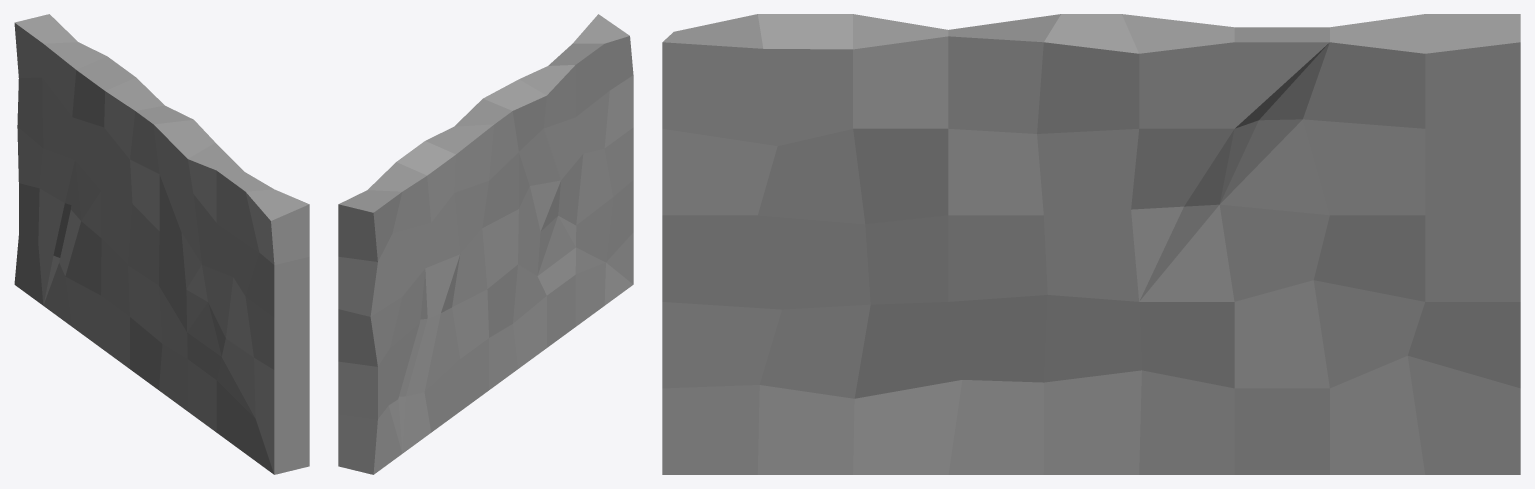
Rendered from Fixed Mesh 16.fbx.
3 renders of one model, left to right at view 1: azimuth 30°, elevation 25°; view 2: azimuth 150°, elevation 25°; view 3: azimuth 270°, elevation 25°, orthographic. The views are drawn at different scales.
Parts seen in each view (by area): view 1: Cube.107; view 2: Cube.107; view 3: Cube.107.
Boxes of the visible parts, box(x1,y1,x2,y2) form: Cube.107: box(14, 14, 309, 474); Cube.107: box(338, 14, 633, 474); Cube.107: box(662, 14, 1520, 474).
Bounding box in the file's own units: 60.5 × 428 × 770.
